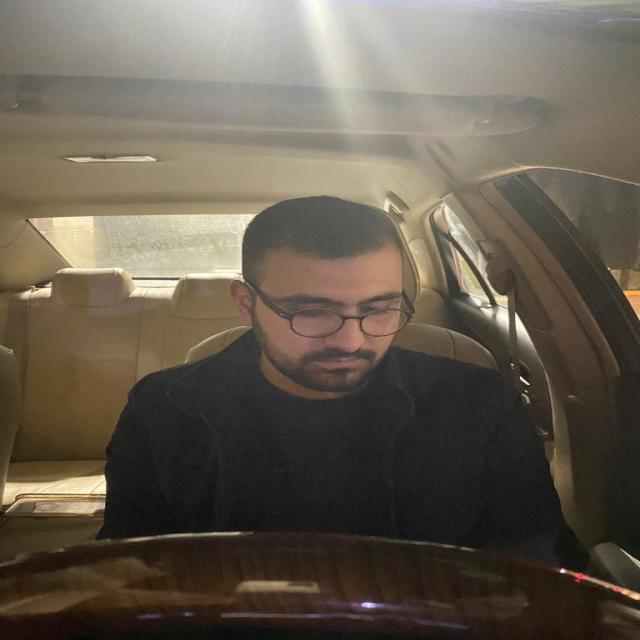drowsy: (238, 206, 414, 409)
